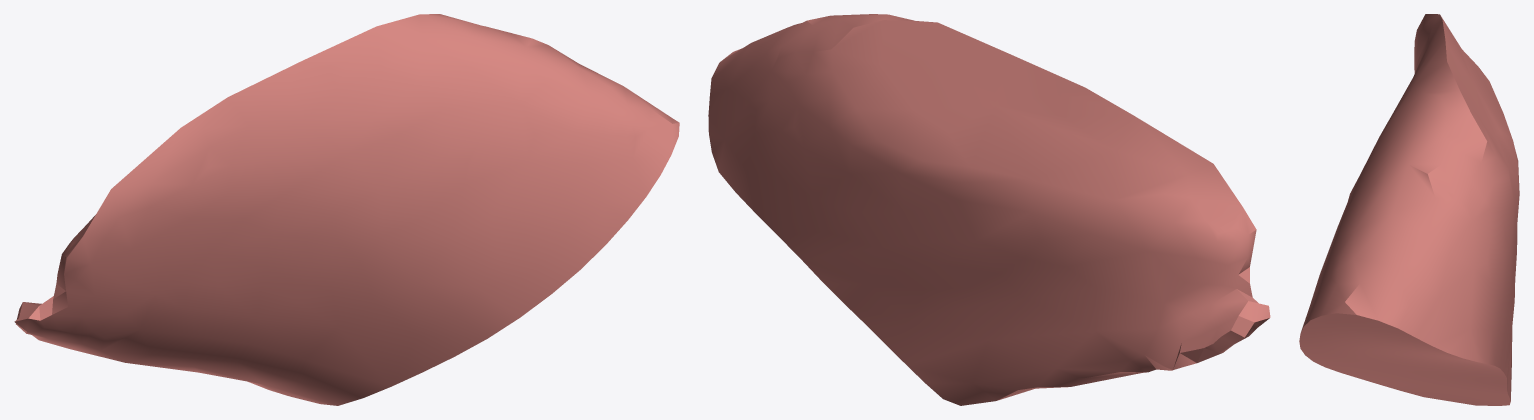
Rendered from fma39284-n_mm1942m.glb.
3 renders of one model, left to right at view 1: azimuth 30°, elevation 25°; view 2: azimuth 150°, elevation 25°; view 3: azimuth 270°, elevation 25°, orthographic. The views are drawn at different scales.
Visible parts, largest first — view 1: FMA39284-N_MM1942M; view 2: FMA39284-N_MM1942M; view 3: FMA39284-N_MM1942M.
Part boxes in pixels (bbox=[...]): FMA39284-N_MM1942M: bbox=[14, 14, 679, 405]; FMA39284-N_MM1942M: bbox=[708, 14, 1270, 405]; FMA39284-N_MM1942M: bbox=[1299, 14, 1519, 405].
Bounding box in the file's own units: 0.0162 × 0.00932 × 0.005.
